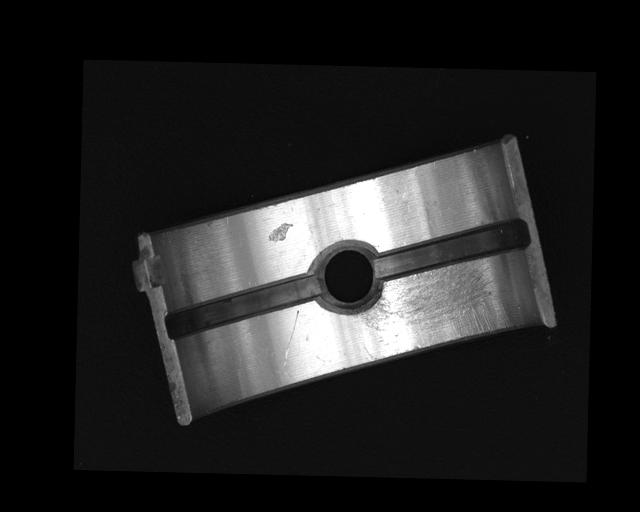bruise: (266, 222, 293, 244)
gap: (165, 268, 319, 341), (373, 214, 530, 282)
hole: (313, 239, 382, 316)
nick: (283, 309, 300, 367)
scratch: (358, 249, 513, 361)
